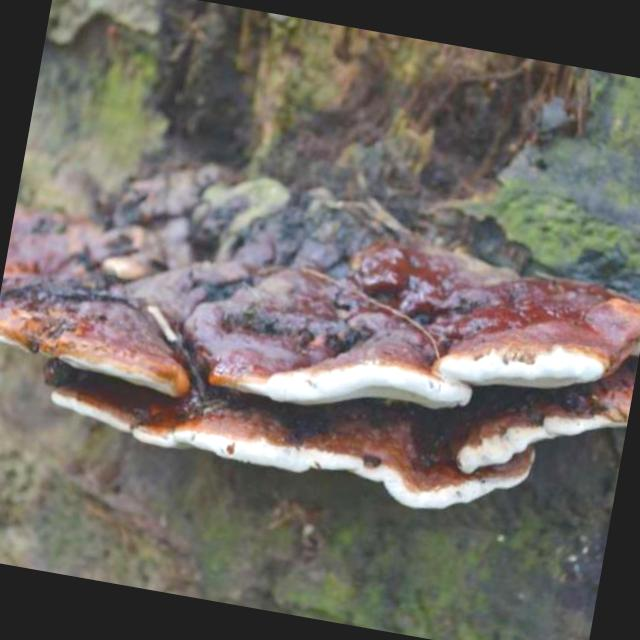ganoderma: (1, 150, 640, 545)
